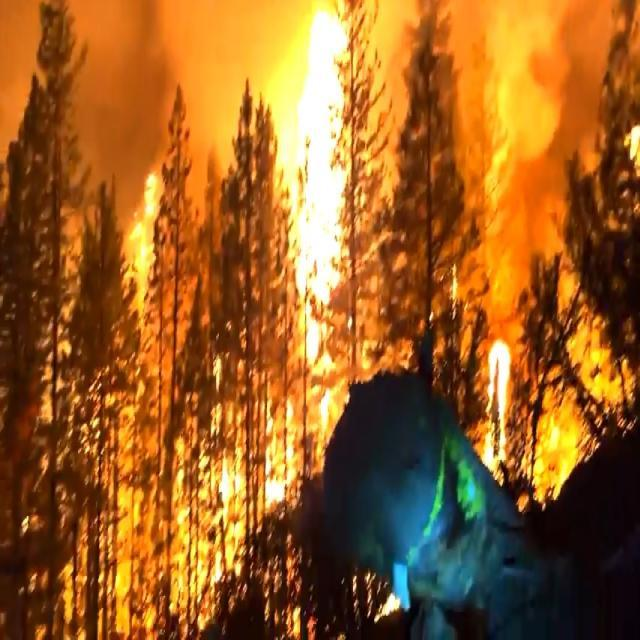Fire: (132, 0, 510, 640)
